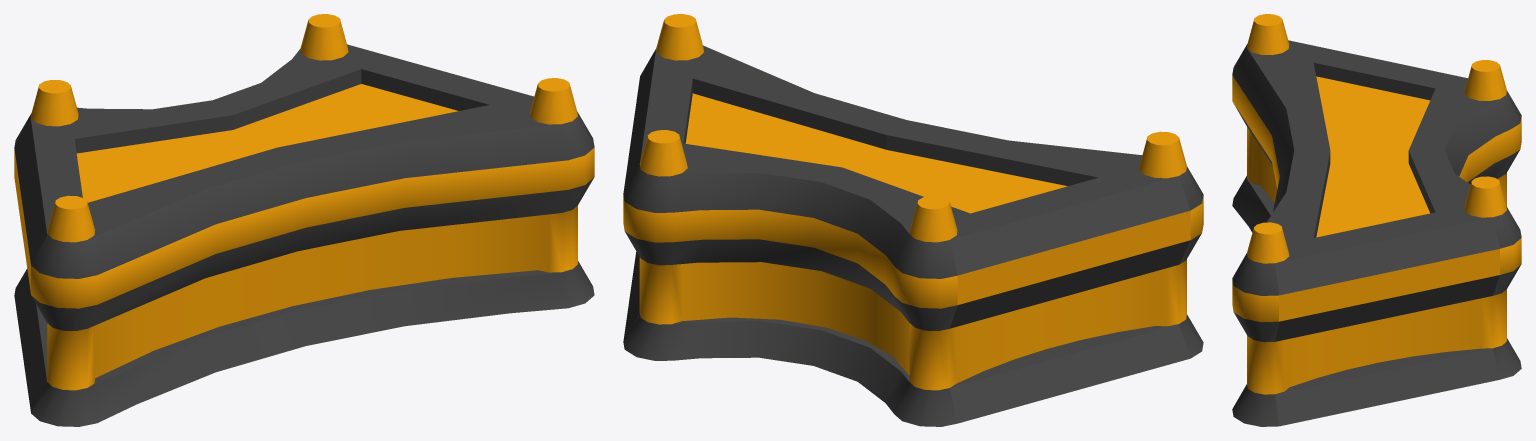
The model's file is KickerGamepad.fbx.
The picture shows the model from 3 angles, left to right: view 1: azimuth 30°, elevation 25°; view 2: azimuth 150°, elevation 25°; view 3: azimuth 270°, elevation 25°; orthographic projection. The views are drawn at different scales.
Parts seen in each view (by area): view 1: KickerGamepad; view 2: KickerGamepad; view 3: KickerGamepad.
Boxes of the visible parts, <box> form: KickerGamepad: <box>14,14,594,426</box>; KickerGamepad: <box>623,14,1203,426</box>; KickerGamepad: <box>1232,14,1521,426</box>.
Bounding box in the file's own units: 196 × 70 × 100.
